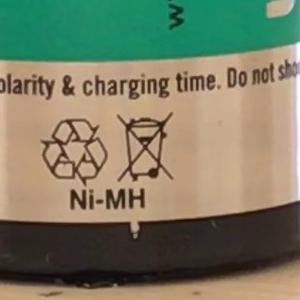NI-MH: (60, 178, 155, 220)
